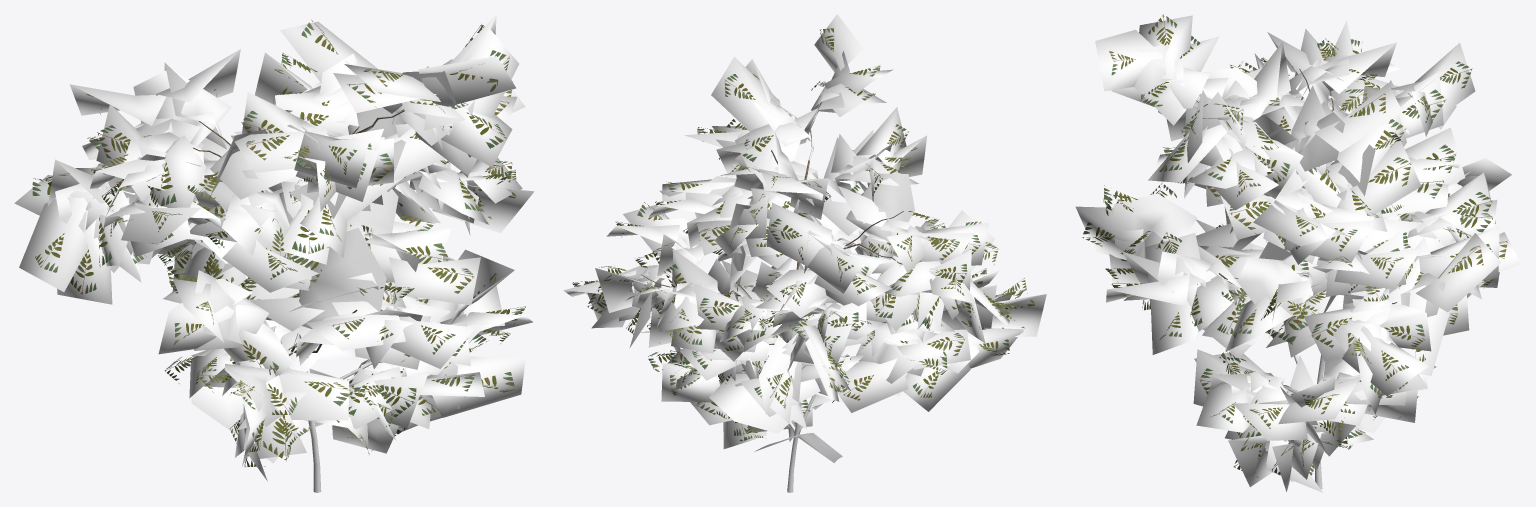
File: acacia_seedling.glb
3 renders of one model, left to right at view 1: azimuth 30°, elevation 25°; view 2: azimuth 150°, elevation 25°; view 3: azimuth 270°, elevation 25°, orthographic. The views are drawn at different scales.
Parts seen in each view (by area): view 1: acacia_seedling; view 2: acacia_seedling; view 3: acacia_seedling.
Boxes of the visible parts, x1,y1,x2,y2 form: acacia_seedling: (14,14,534,492); acacia_seedling: (563,14,1046,492); acacia_seedling: (1075,14,1521,492).
Bounding box in the file's own units: 2.39 × 2.19 × 1.86.
Materials: 4 (3 with a texture image).
